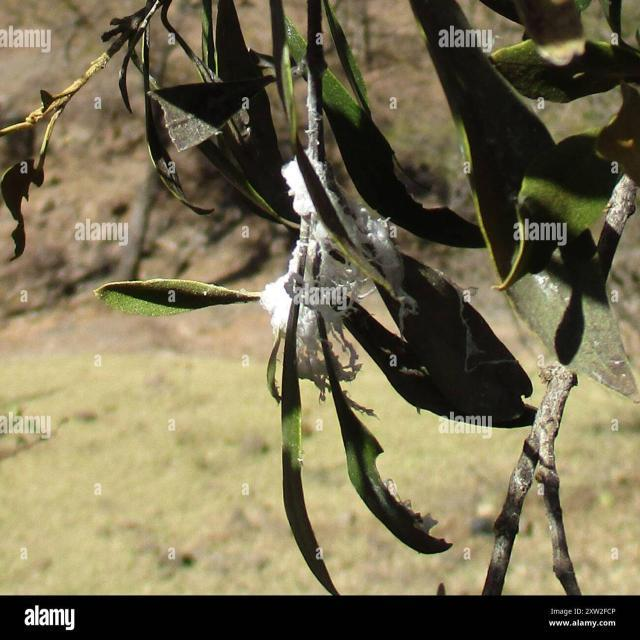Psyllid: (260, 146, 427, 408)
